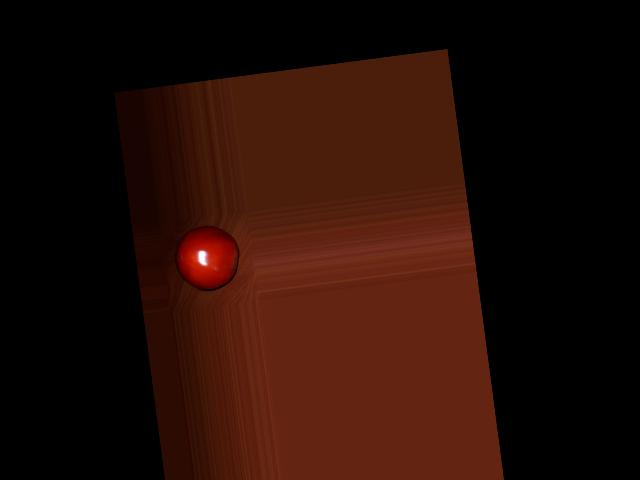tomato: (170, 221, 243, 294)
